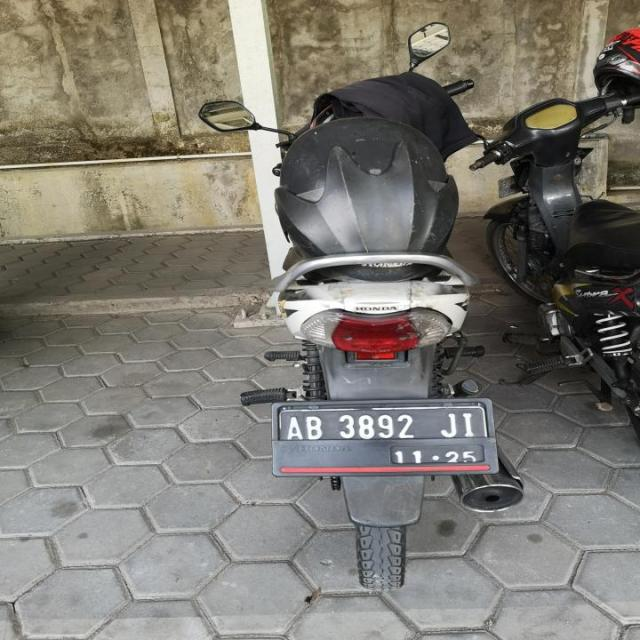License Plate: (267, 396, 500, 476)
